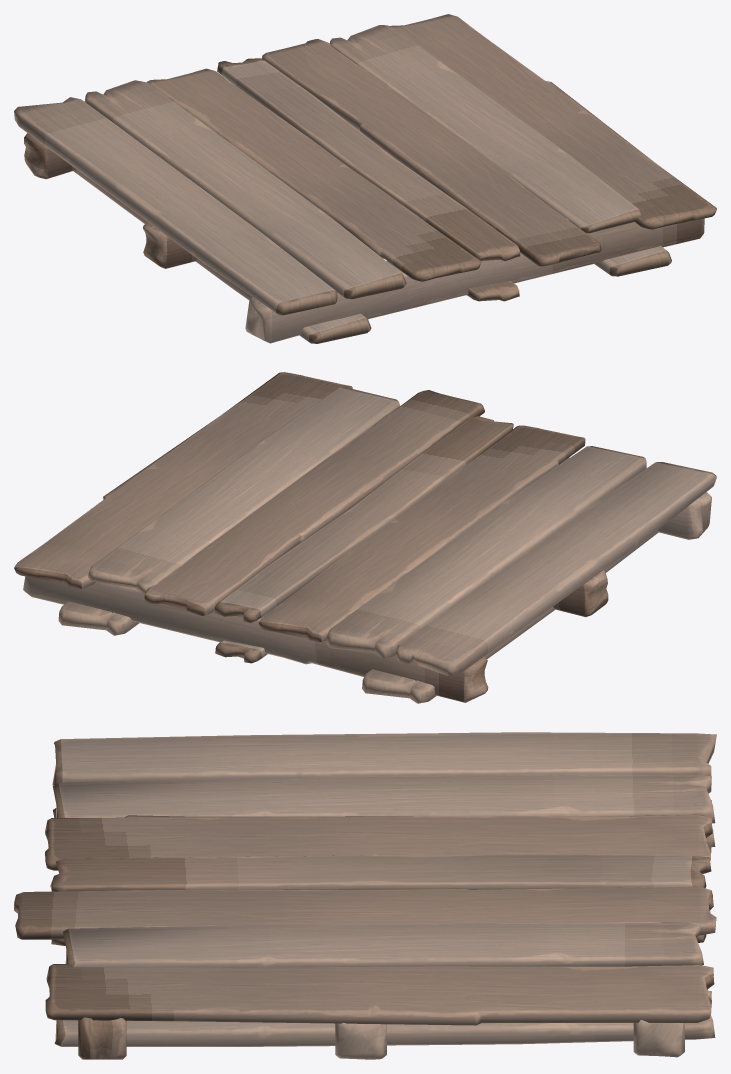
The model's file is SM_Dock_02.fbx.
The picture shows the model from 3 angles, top to bottom: view 1: azimuth 30°, elevation 25°; view 2: azimuth 150°, elevation 25°; view 3: azimuth 270°, elevation 25°; orthographic projection. The views are drawn at different scales.
Visible parts, largest first — view 1: SM_Dock_02_LOD0; view 2: SM_Dock_02_LOD0; view 3: SM_Dock_02_LOD0.
Part boxes in pixels (x1,y1,x2,y2): SM_Dock_02_LOD0: (14, 14, 716, 343); SM_Dock_02_LOD0: (14, 372, 716, 703); SM_Dock_02_LOD0: (14, 732, 716, 1059).
Bounding box in the file's own units: 406 × 441 × 52.31.
